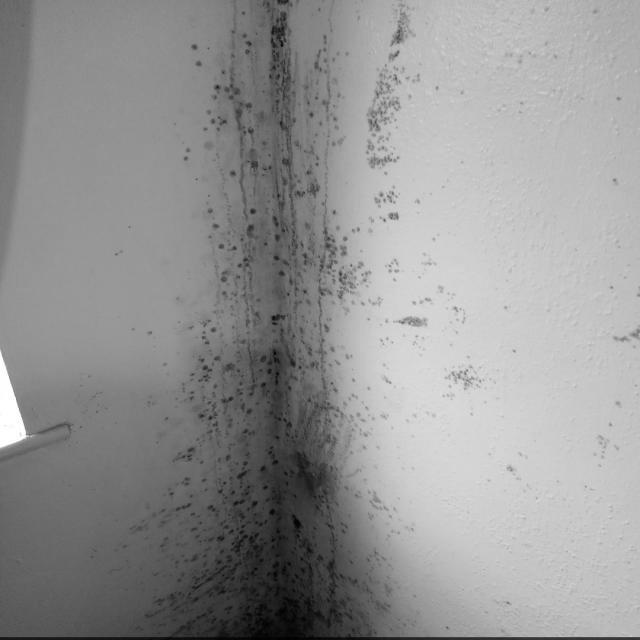stain marks: (84, 1, 542, 630), (572, 302, 640, 502)
